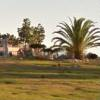Palm tree: (45, 4, 100, 65)
